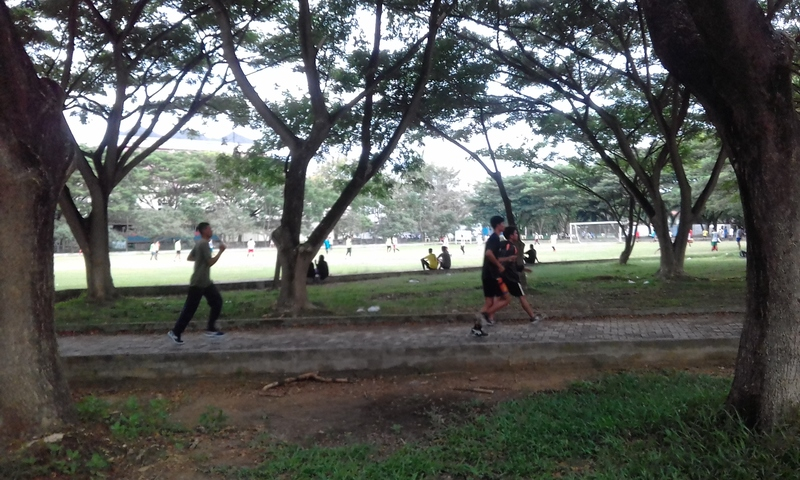person: (165, 216, 230, 349), (488, 223, 550, 327), (469, 212, 517, 341)
